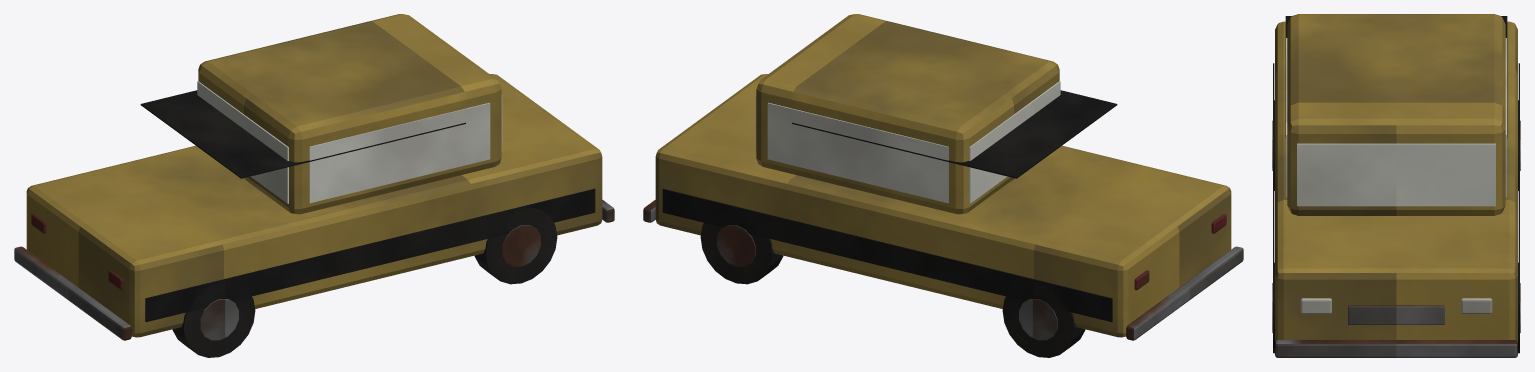
Rendered from CV04_taxi_black_yellow.glb.
The picture shows the model from 3 angles, left to right: view 1: azimuth 30°, elevation 25°; view 2: azimuth 150°, elevation 25°; view 3: azimuth 270°, elevation 25°; orthographic projection. The views are drawn at different scales.
Visible parts, largest first — view 1: CV04_taxi_black_yellow; view 2: CV04_taxi_black_yellow; view 3: CV04_taxi_black_yellow.
Part boxes in pixels (left/top/right/bottom): CV04_taxi_black_yellow: left=14, top=14, right=614, bottom=357; CV04_taxi_black_yellow: left=643, top=14, right=1243, bottom=357; CV04_taxi_black_yellow: left=1272, top=14, right=1520, bottom=357.
Bounding box in the file's own units: 4.2 × 1.63 × 1.67.
8 materials, 8 textured.
